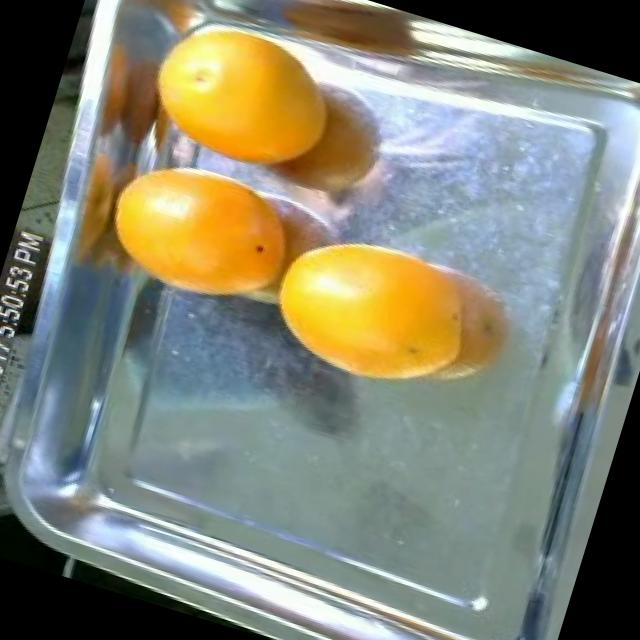Fruit: (68, 141, 317, 342), (242, 215, 477, 414)
